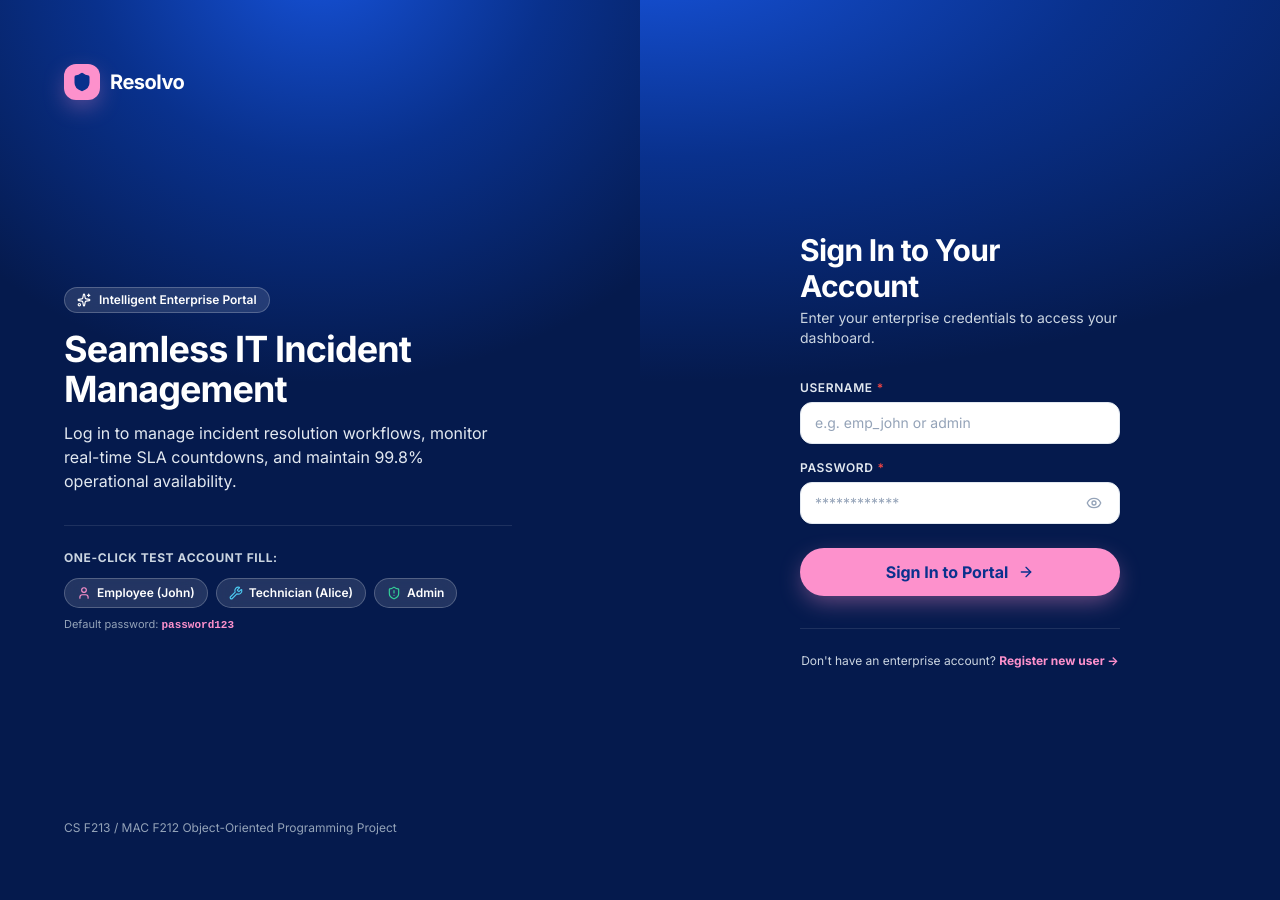
Test: LoginPage › shows validation errors when submitting empty form
What coordinates should you click on to do the following:
click the button "Sign In to Portal"
I would click on:
 (960, 572)
Its box is 800,548 -> 1120,596.
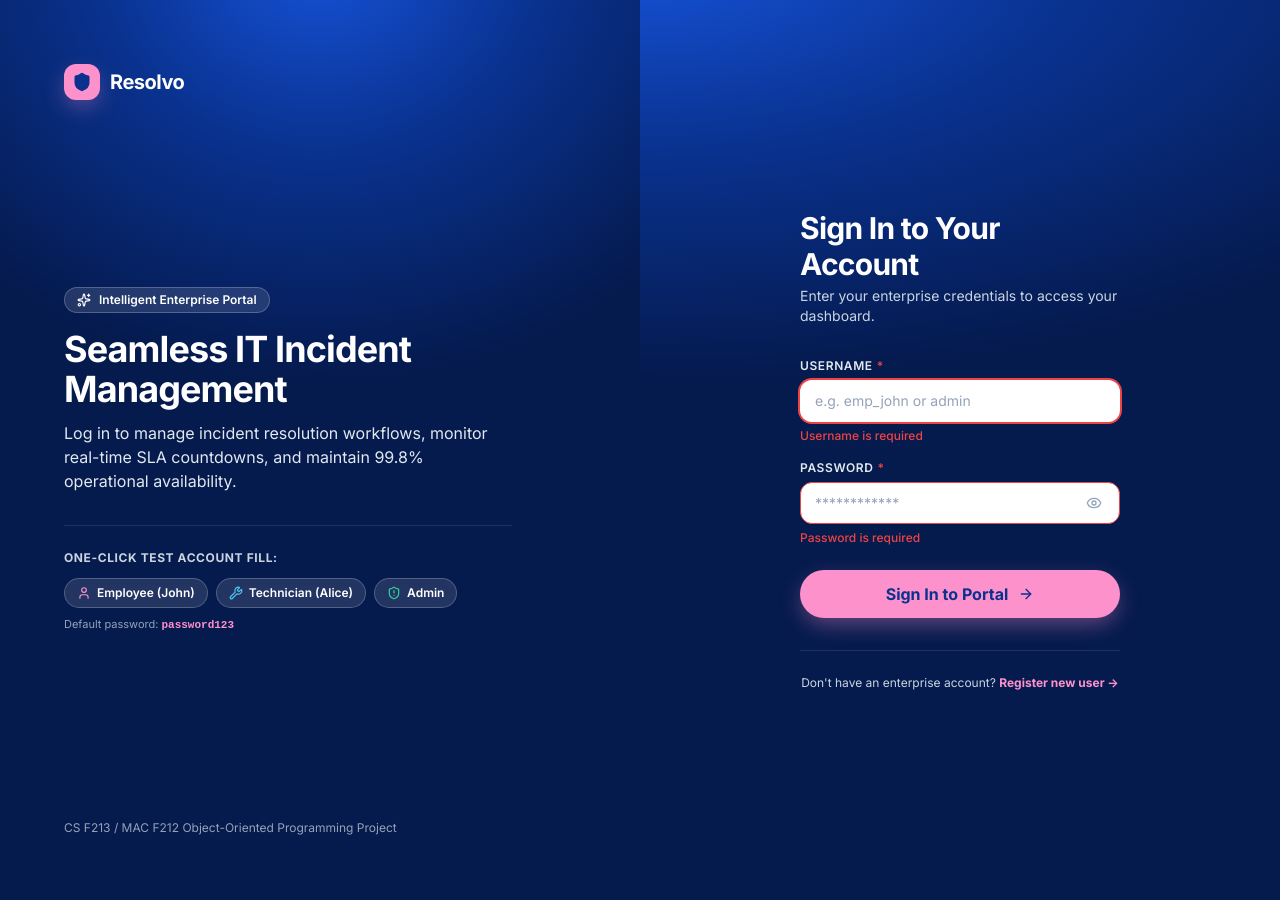
Now the text "Username is required" is shown, box 800,428 -> 923,442
Now the text "Password is required" is shown, box 800,530 -> 920,544
